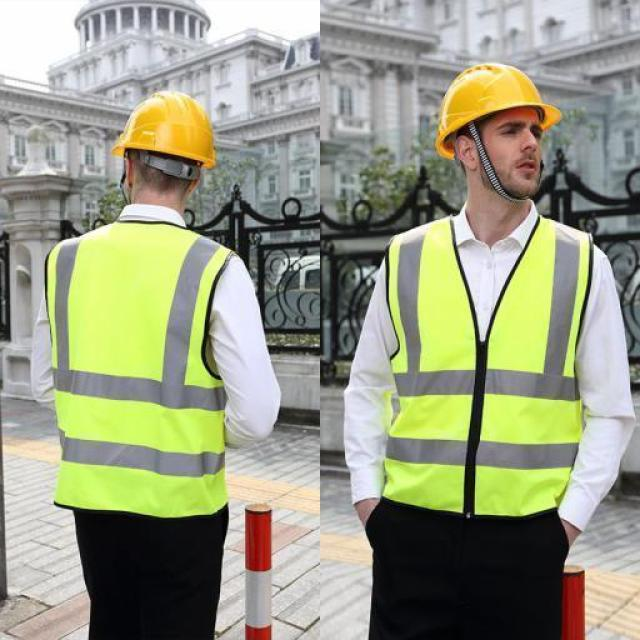face_nomask: (486, 116, 546, 193)
head_helmet: (433, 61, 565, 134), (110, 86, 221, 160)
person: (337, 61, 640, 640), (26, 81, 300, 640)
vest: (374, 210, 598, 520), (45, 215, 239, 520)
